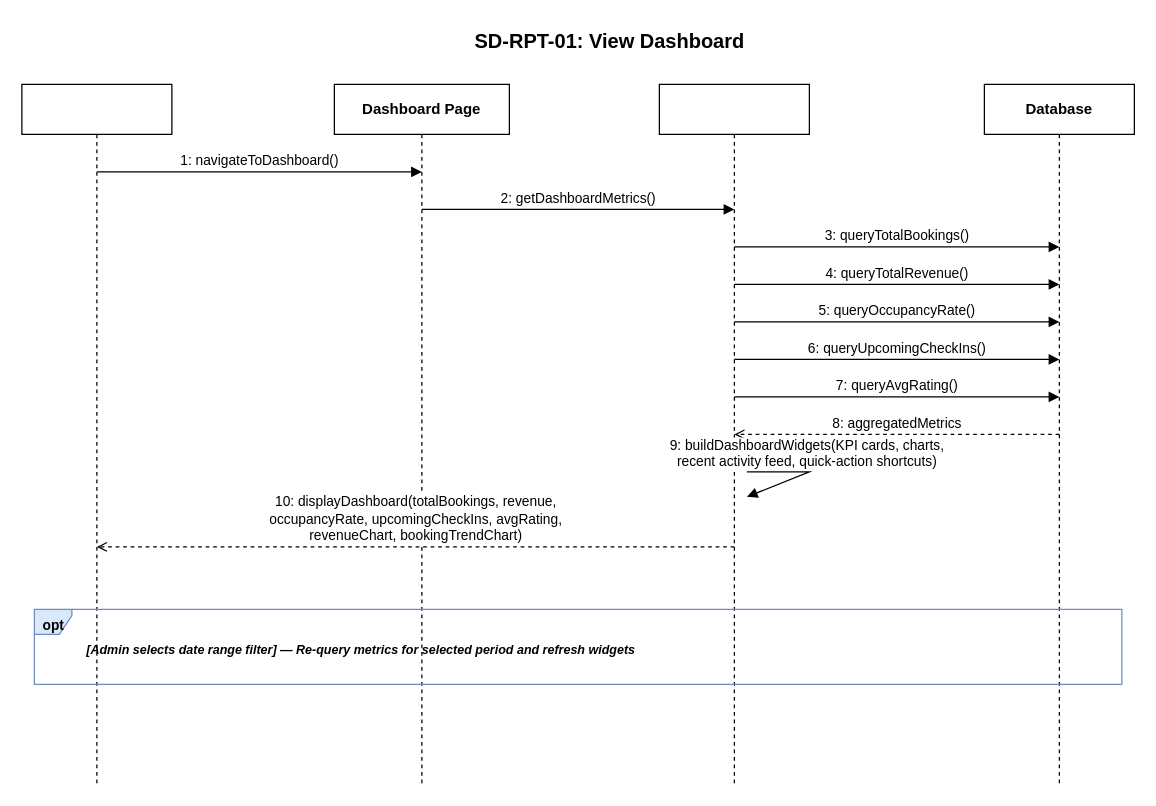
The diagram is 1156 pixels wide and 806 high, and some of its shapes have lost their labels. Each missing label, with the box of its shape:
Admin: (21, 83, 172, 784)
System: (658, 83, 809, 784)
